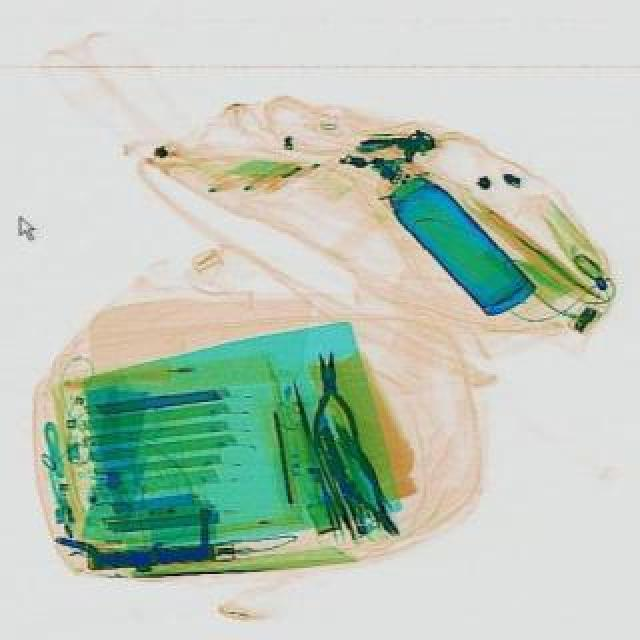wrench: (314, 430, 416, 546), (300, 348, 358, 448)
